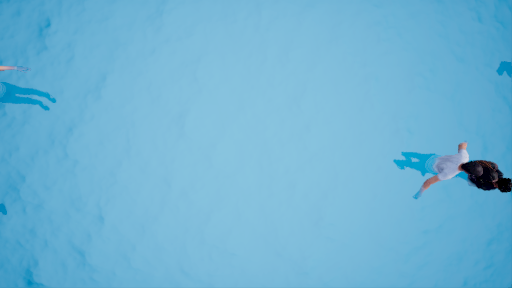person: (388, 142, 484, 191), (476, 162, 512, 195)
